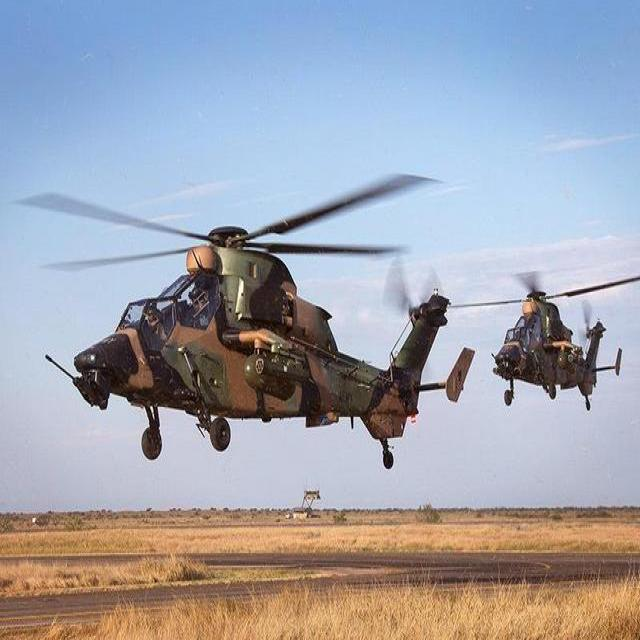MIL_HELO: (17, 158, 480, 484), (418, 262, 640, 429)
